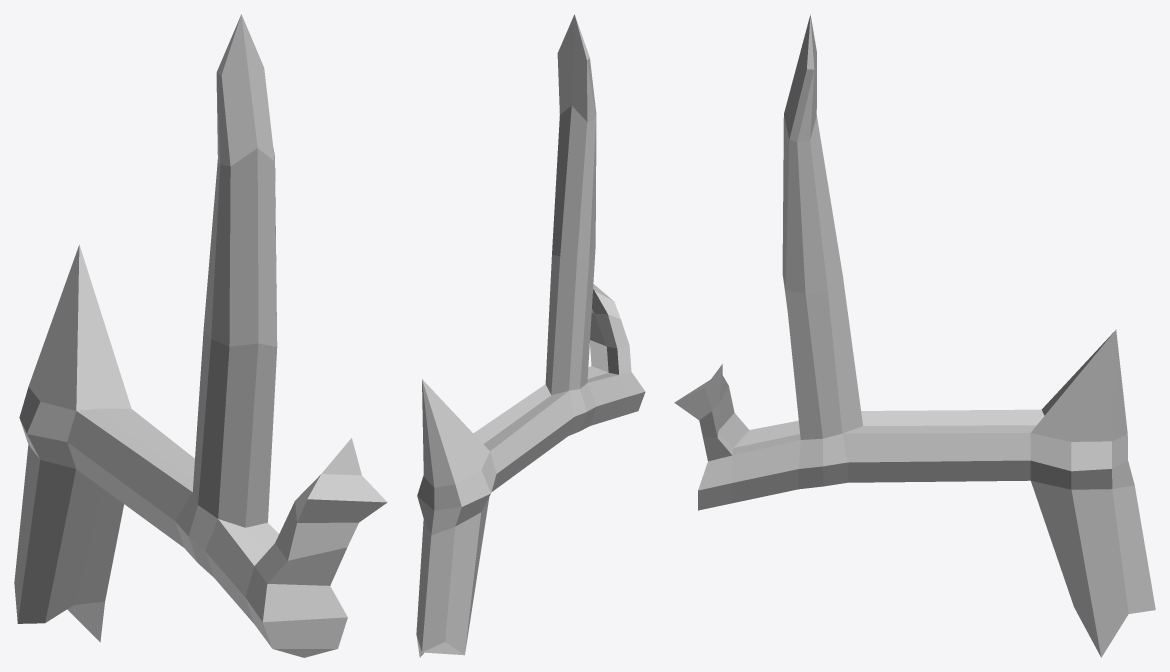
Rendered from Horn.fbx.
3 renders of one model, left to right at view 1: azimuth 30°, elevation 25°; view 2: azimuth 150°, elevation 25°; view 3: azimuth 270°, elevation 25°, orthographic. The views are drawn at different scales.
Visible parts, largest first — view 1: Pig; view 2: Pig; view 3: Pig.
Boxes of the visible parts, x1,y1,x2,y2 form: Pig: (14,14,387,657); Pig: (416,14,645,657); Pig: (674,14,1155,657).
Bounding box in the file's own units: 12.51 × 81.24 × 56.34.
